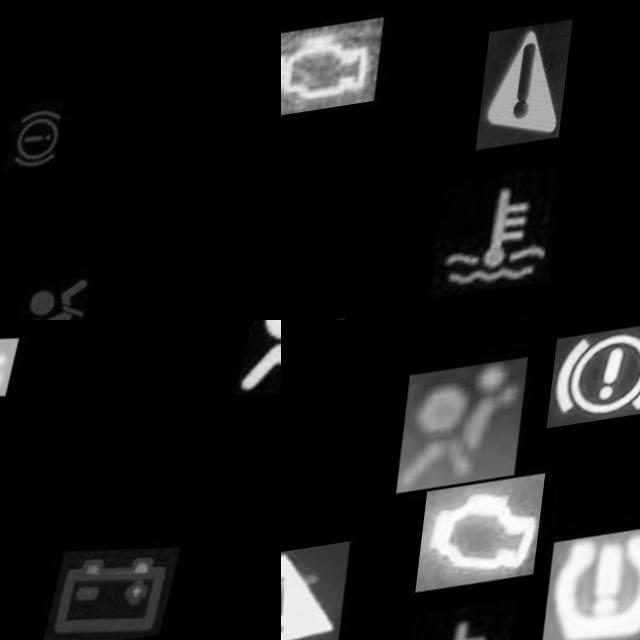Central Warning lamp: (484, 38, 578, 166), (281, 550, 359, 640)
Engine cooling system: (442, 185, 571, 315), (400, 613, 529, 640)
